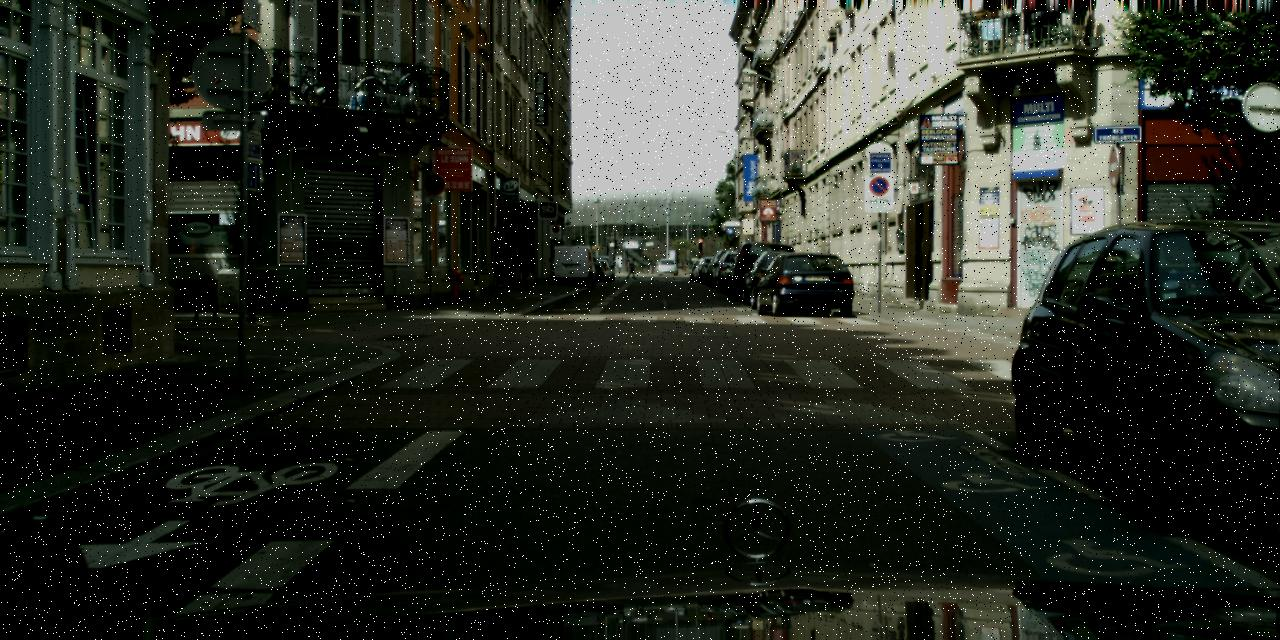ped: (515, 244, 533, 289), (628, 258, 636, 278)
